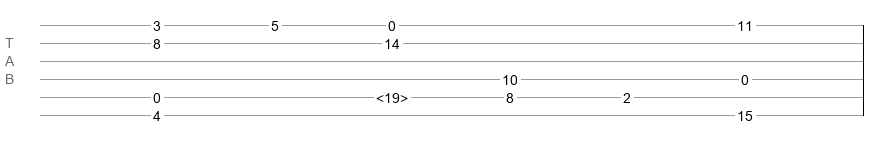0: (153, 90, 161, 100), (388, 18, 396, 28), (741, 72, 749, 82)
10: (502, 72, 518, 82)
11: (737, 18, 753, 28)
14: (384, 36, 400, 46)
15: (737, 108, 753, 118)
2: (623, 90, 631, 100)
3: (153, 18, 161, 28)
4: (153, 108, 161, 118)
5: (271, 18, 279, 28)
8: (153, 36, 161, 46), (506, 90, 514, 100)
harmonic: (376, 90, 408, 100)
